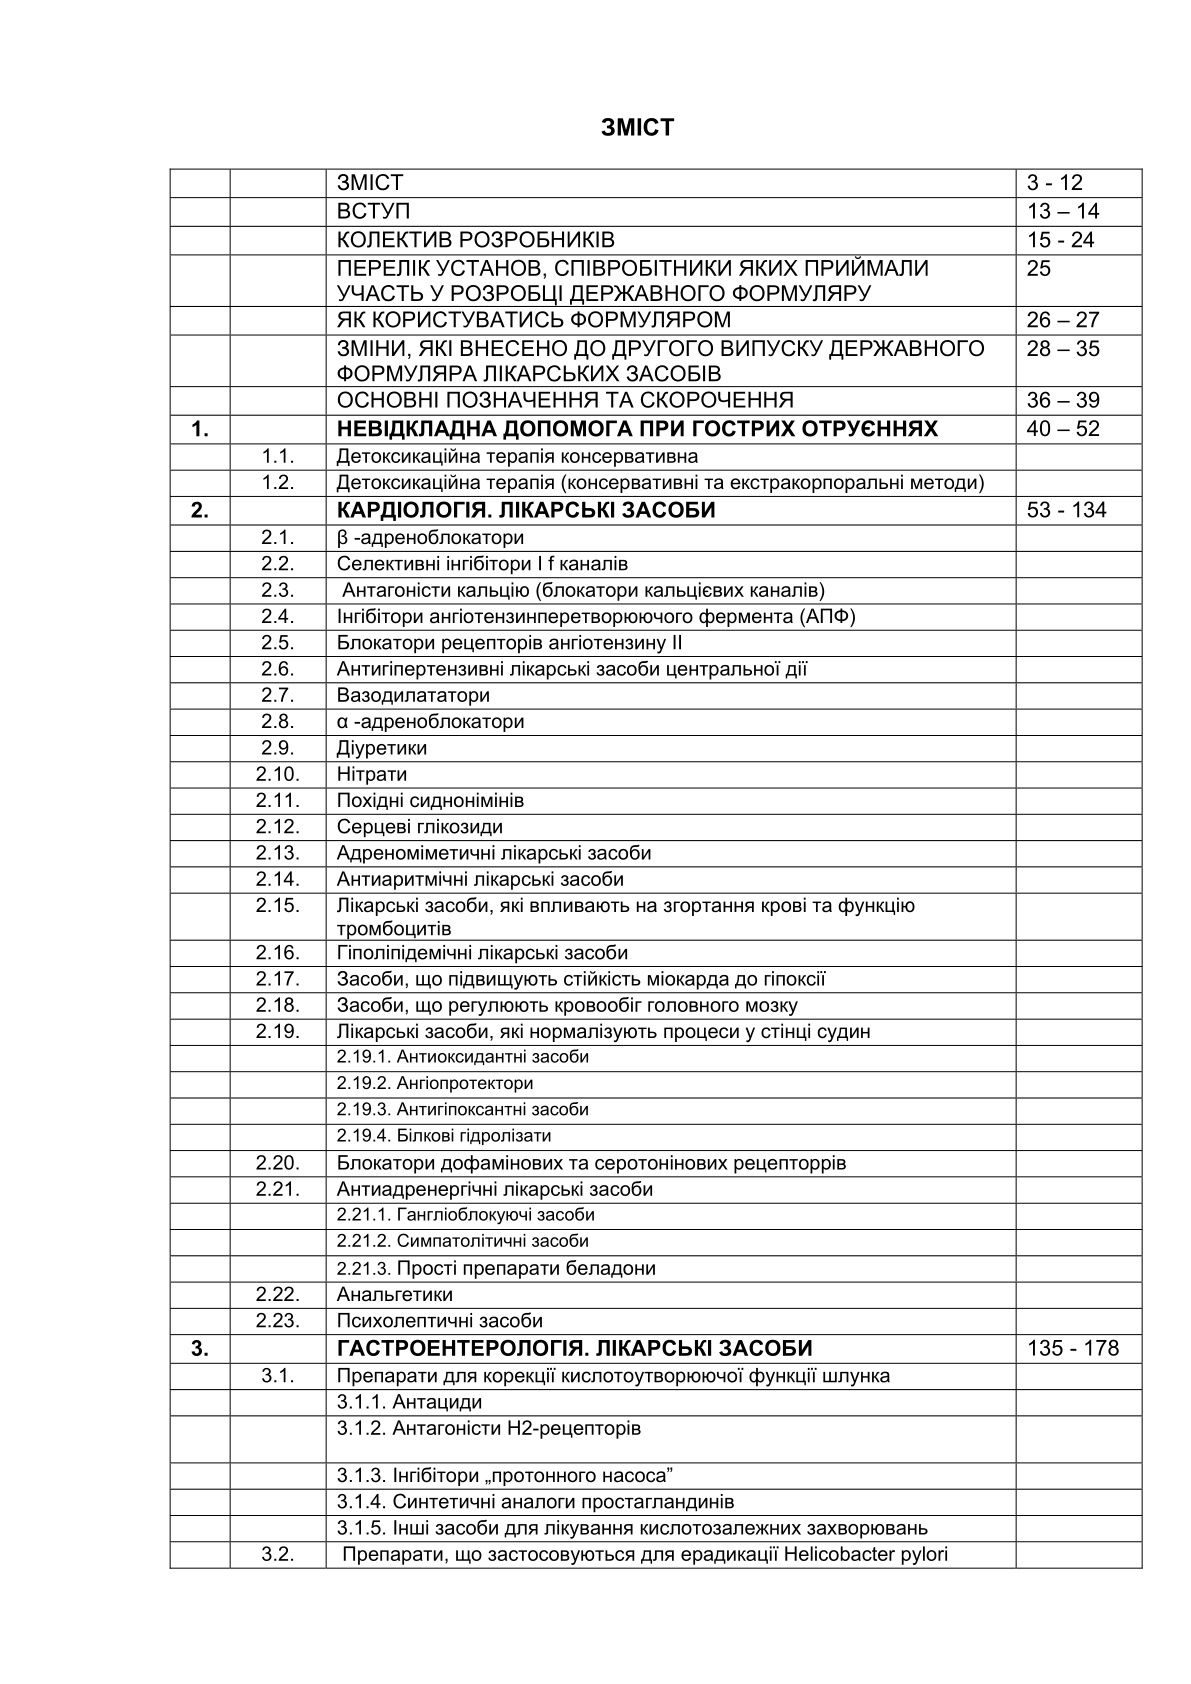full_lined: (168, 166, 1145, 1571)
